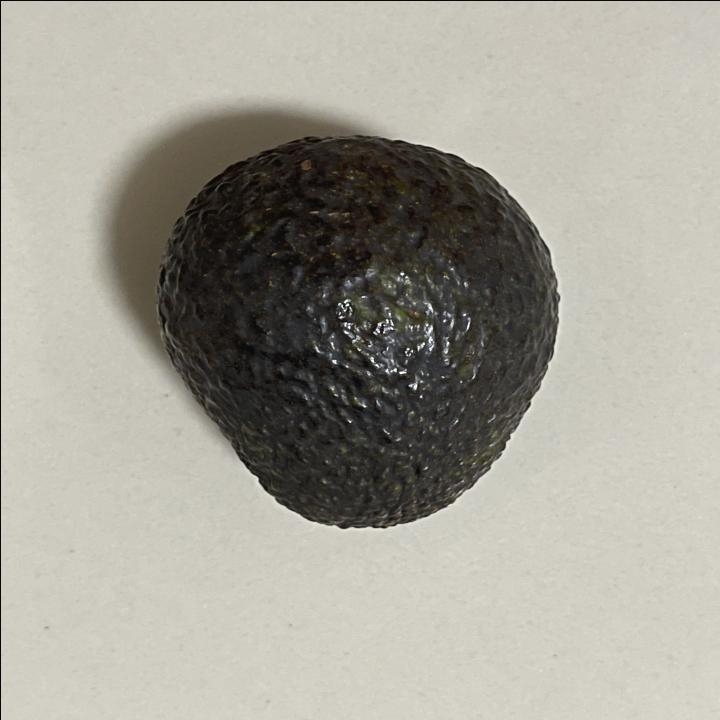Level2: (146, 128, 568, 538)
